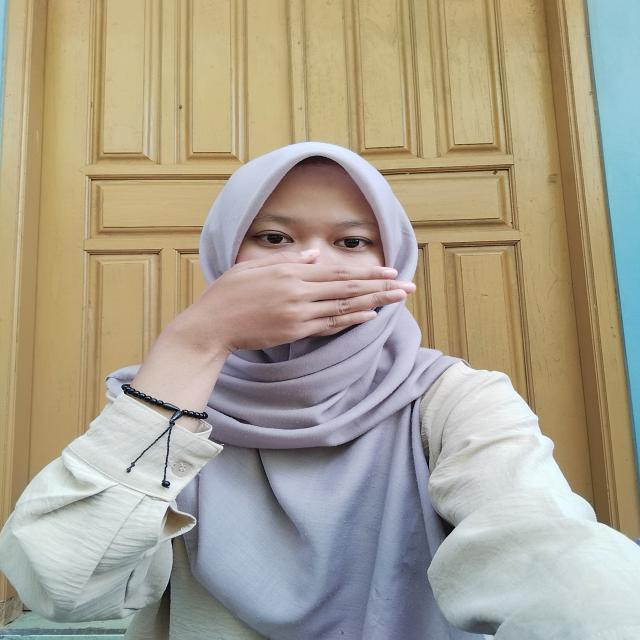buruk: (173, 242, 424, 354)
